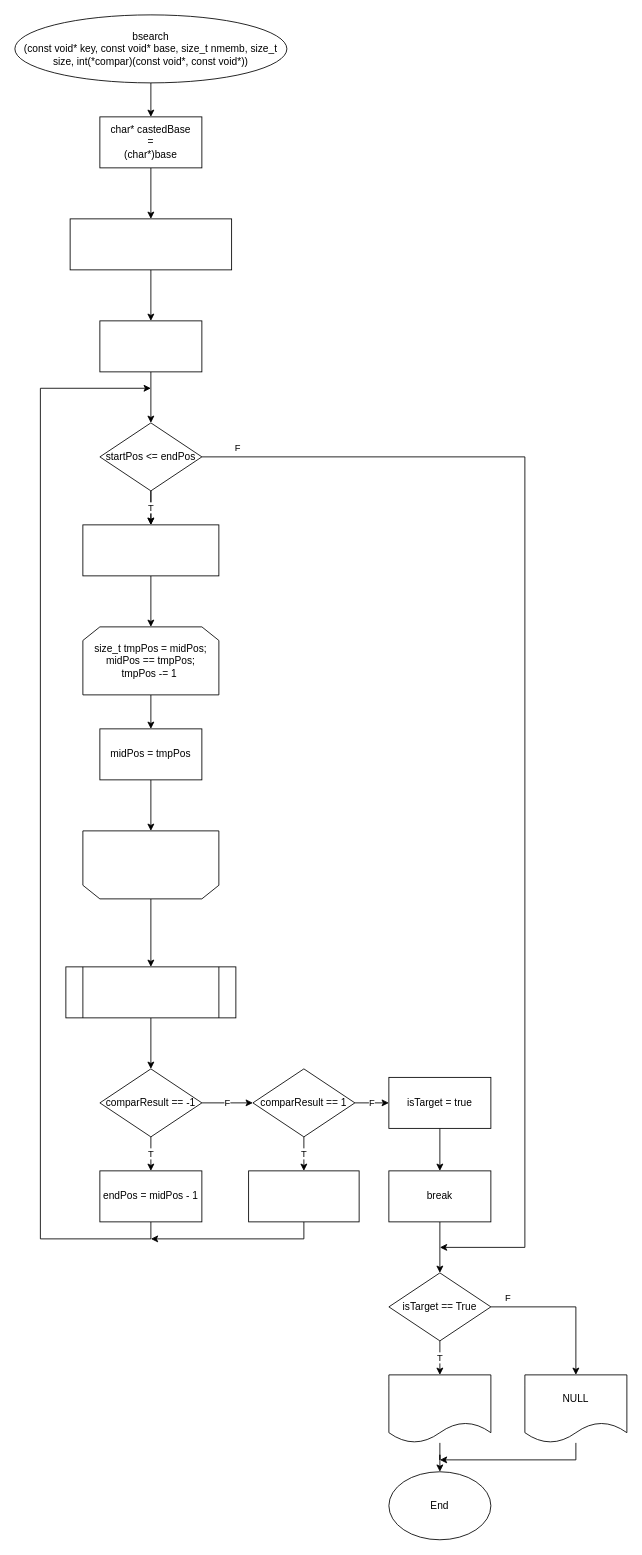
The diagram is 642 pixels wide and 1555 high, and some of its shapes have lost their labels. The centre of each missing label's shape, as x and y in pixels:
"&castedBase[size * midPos]" goes at pixel 439 1408.
"bool isTarget = false" goes at pixel 150 346.
"int compareResult = compar(key, &castedBase[size*midPos]" goes at pixel 150 992.
"midPos = ((endPos - startPos) / 2) + startPos" goes at pixel 150 550.
"size_t startPos = 0 size_t endPos = nmemb - 1 size_t midPos" goes at pixel 150 244.
"startPos = midPos + 1" goes at pixel 303 1196.
